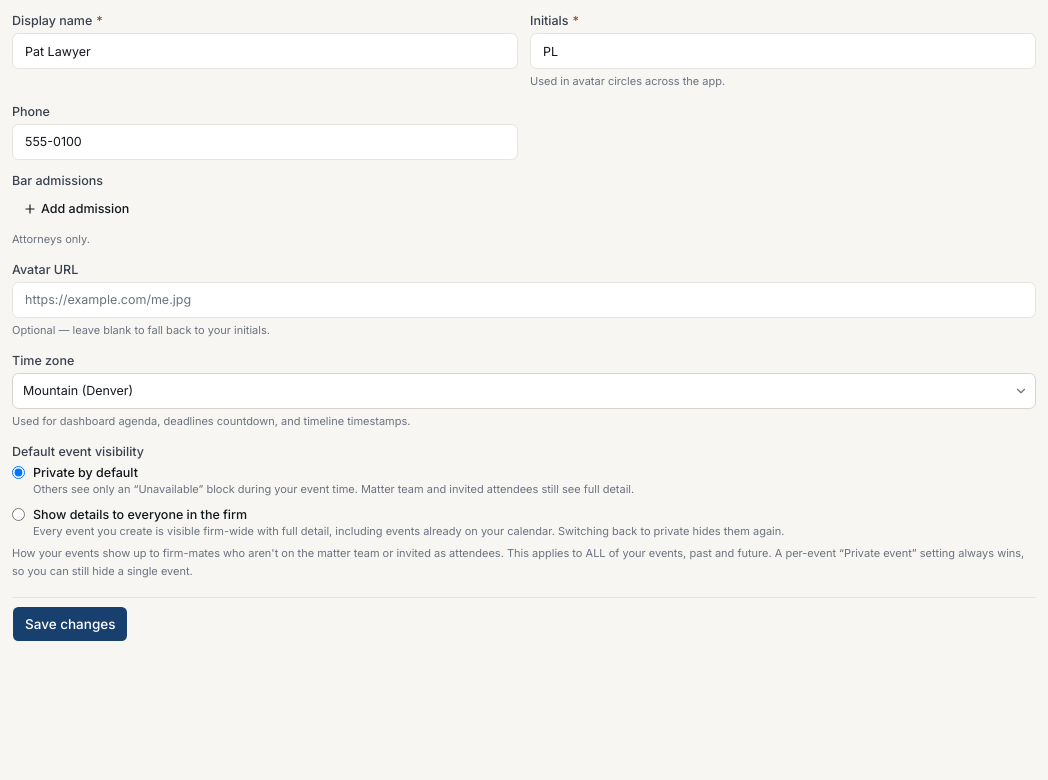
Test: ProfileEditForm bar admissions › shows a returned barAdmissions error
Click the button "Save changes": [70, 624] box [12, 606, 128, 642]
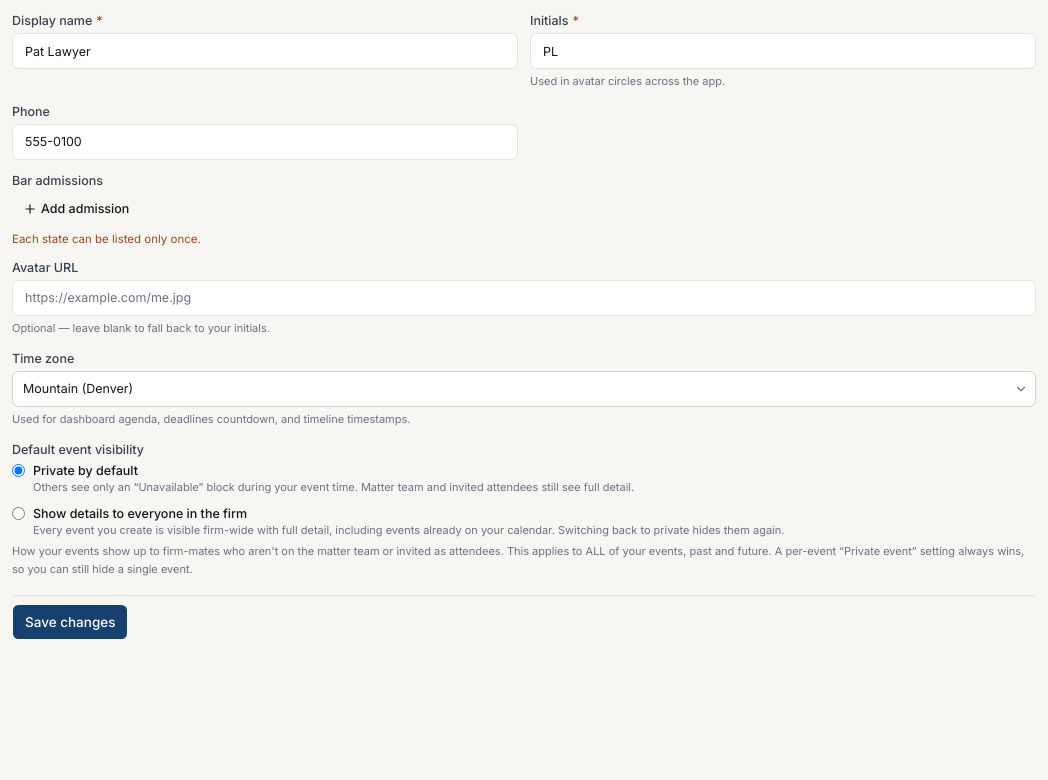
Check: the text "Each state can be listed only once." is shown, box [12, 232, 201, 246]
